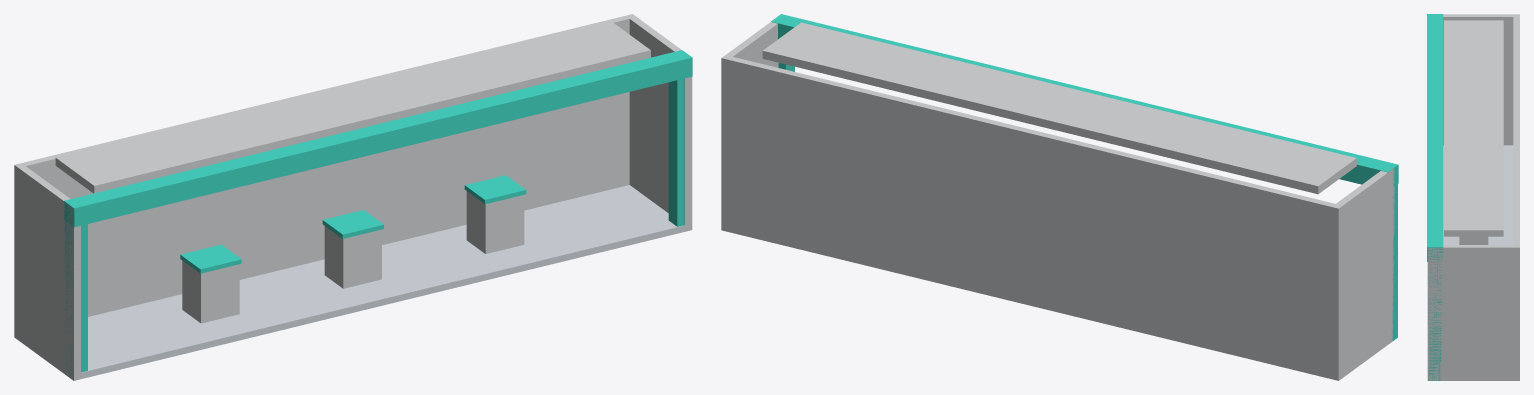
The picture shows the model from 3 angles, left to right: view 1: azimuth 30°, elevation 25°; view 2: azimuth 150°, elevation 25°; view 3: azimuth 270°, elevation 25°; orthographic projection. The views are drawn at different scales.
Parts seen in each view (by area): view 1: Exhibition Booth Concept; view 2: Exhibition Booth Concept; view 3: Exhibition Booth Concept.
Part boxes in pixels (x1=…): Exhibition Booth Concept: x1=14, y1=14, x2=692, y2=380; Exhibition Booth Concept: x1=721, y1=14, x2=1398, y2=380; Exhibition Booth Concept: x1=1427, y1=14, x2=1519, y2=380.
Size of the model in its own units: 12 by 3.34 by 2.01.
